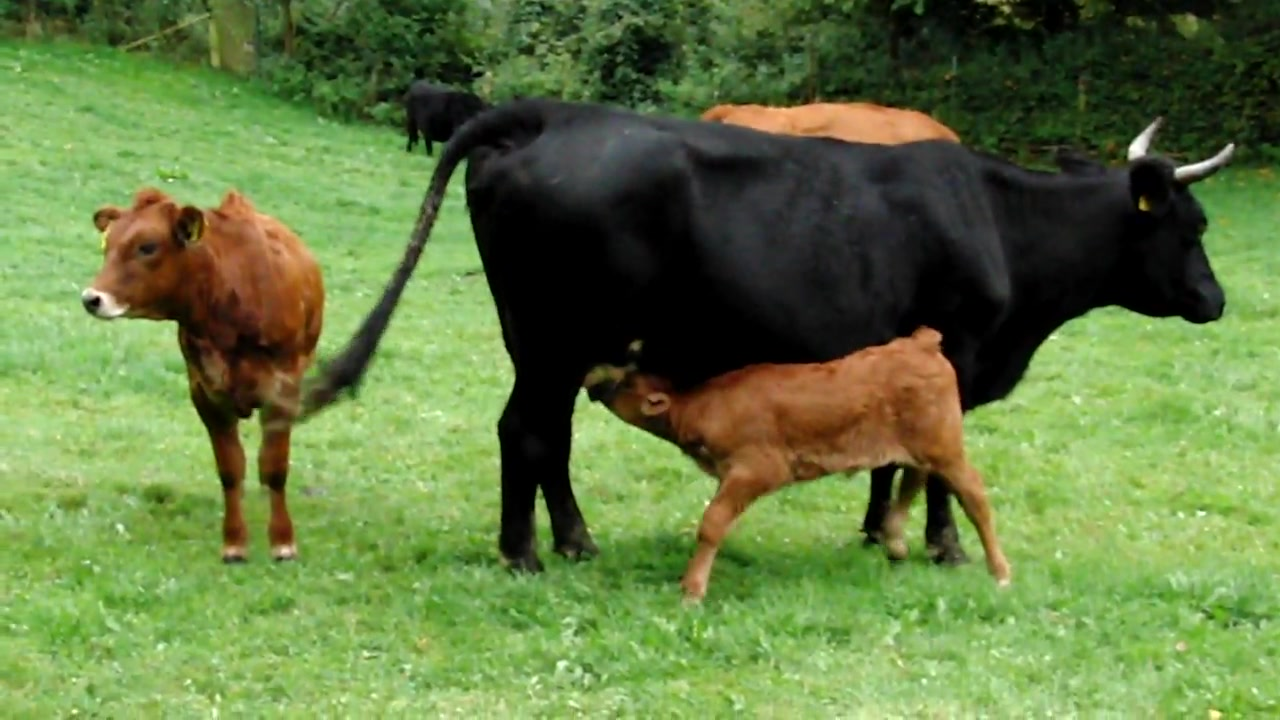cow: (85, 186, 326, 560)
